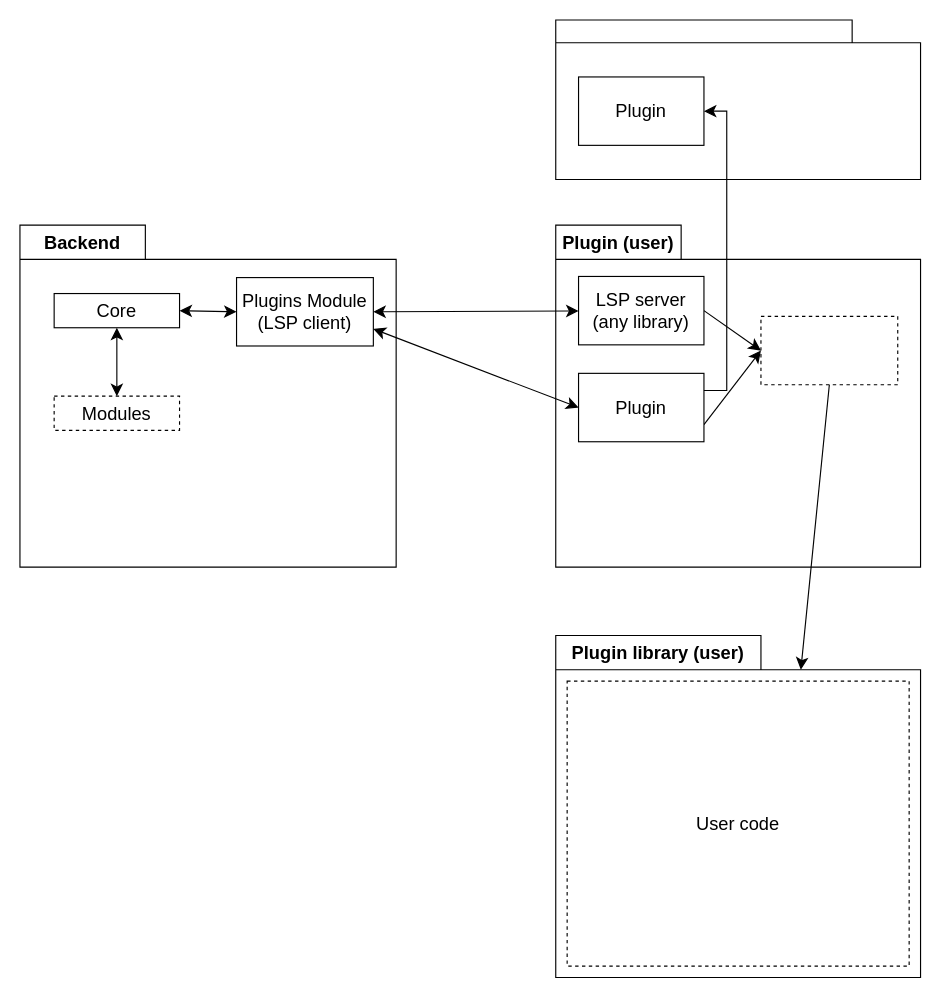
This 941x998 diagram has some shape labels left out. Each missing label, with the centre of its shape:
"Implementation" belongs at (x=829, y=350).
"Plugin toolkit (TS, rust, C++...)" belongs at (x=738, y=99).
